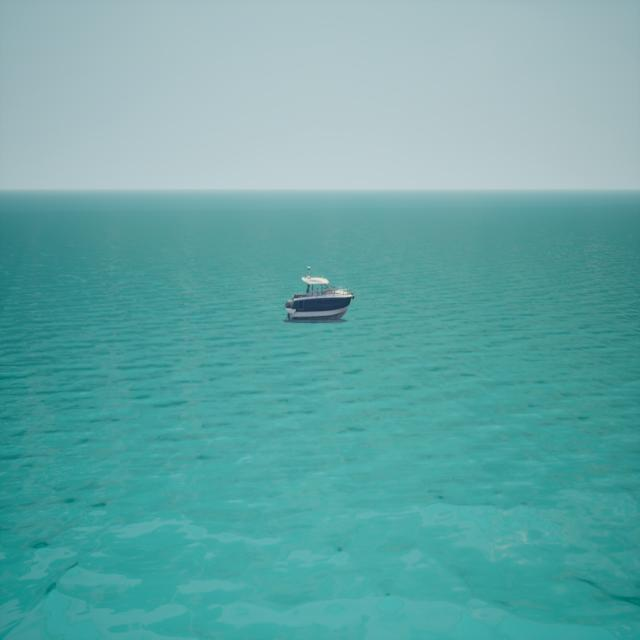ship: (283, 264, 356, 322)
